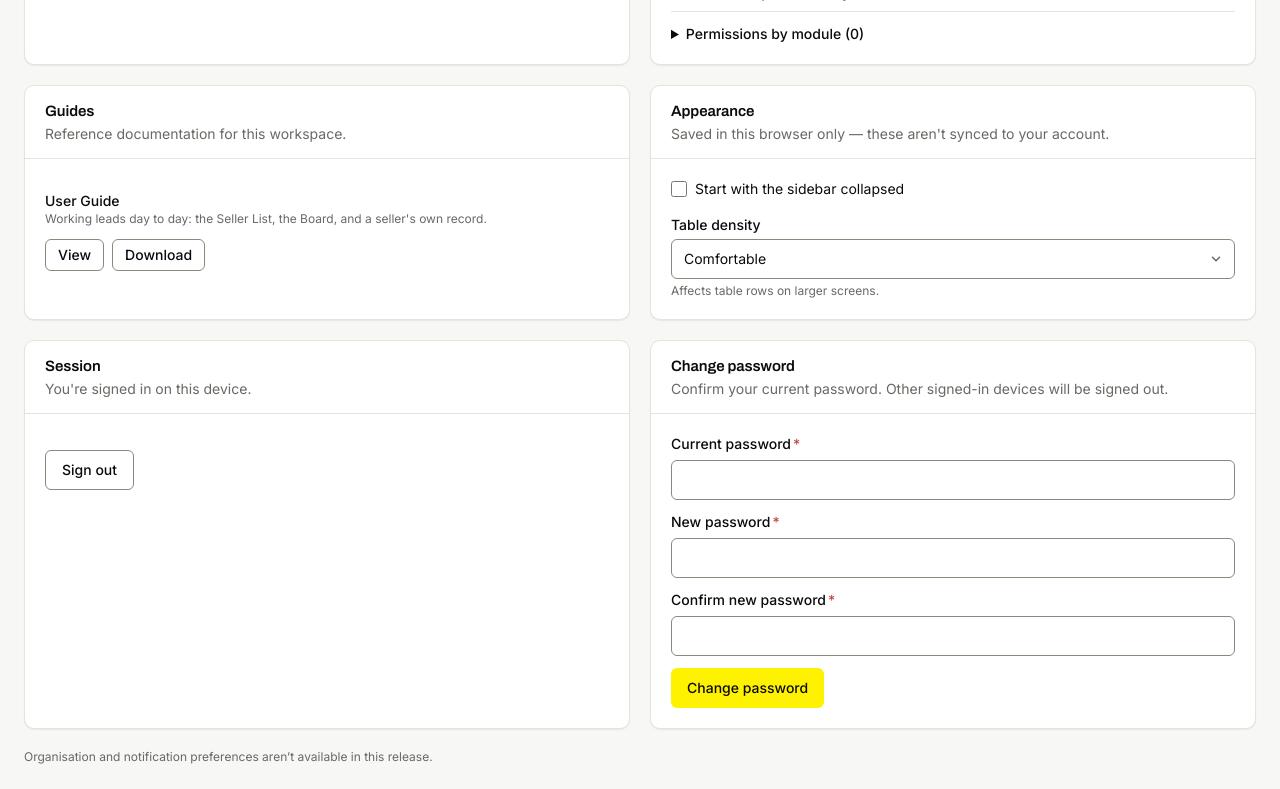
Test case: settings › does not submit mismatched password confirmation
(page scrolled)
Type "Changed-password-123!" into the password field labelled "New password*".
click(953, 558); type("Changed-password-123!")  # box top-left (671, 538), bottom-right (1235, 578)
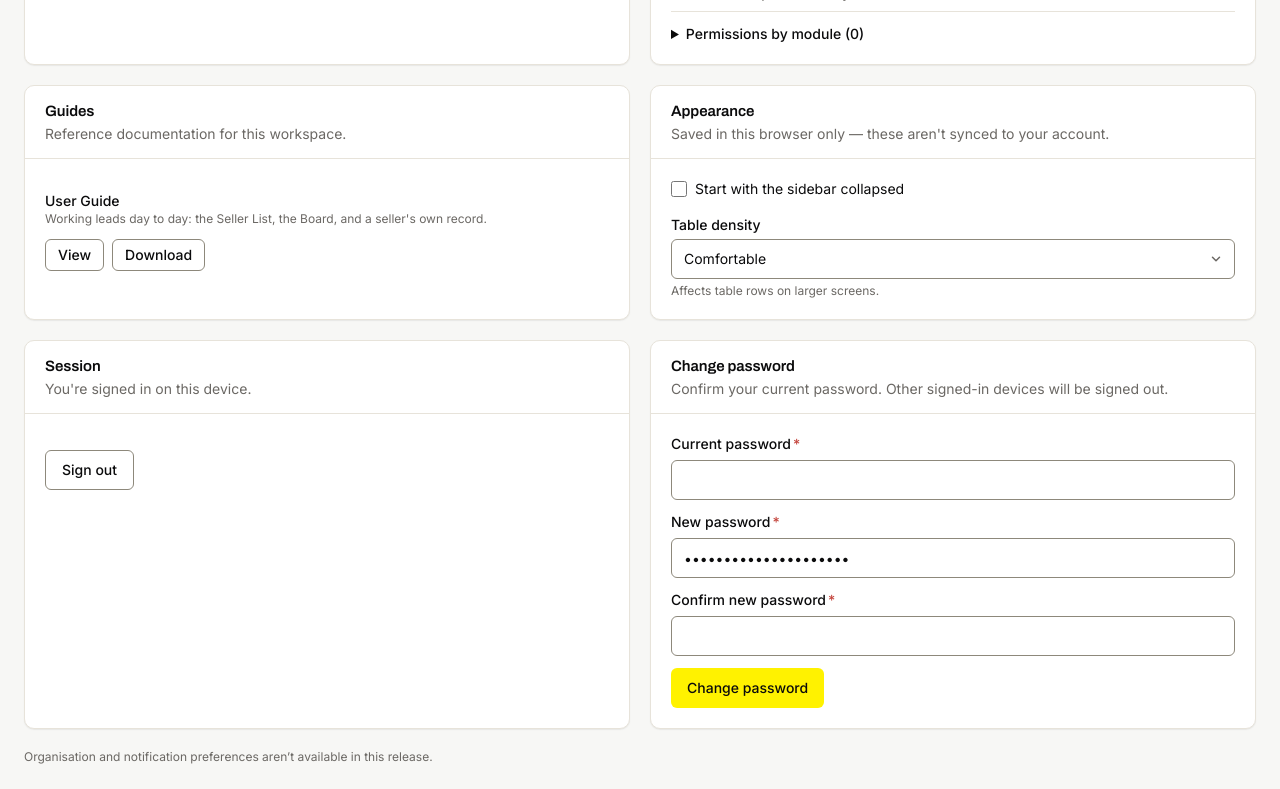
Type "Different-password-123!" into the password field labelled "Confirm new password*".
click(953, 636); type("Different-password-123!")  # box top-left (671, 616), bottom-right (1235, 656)
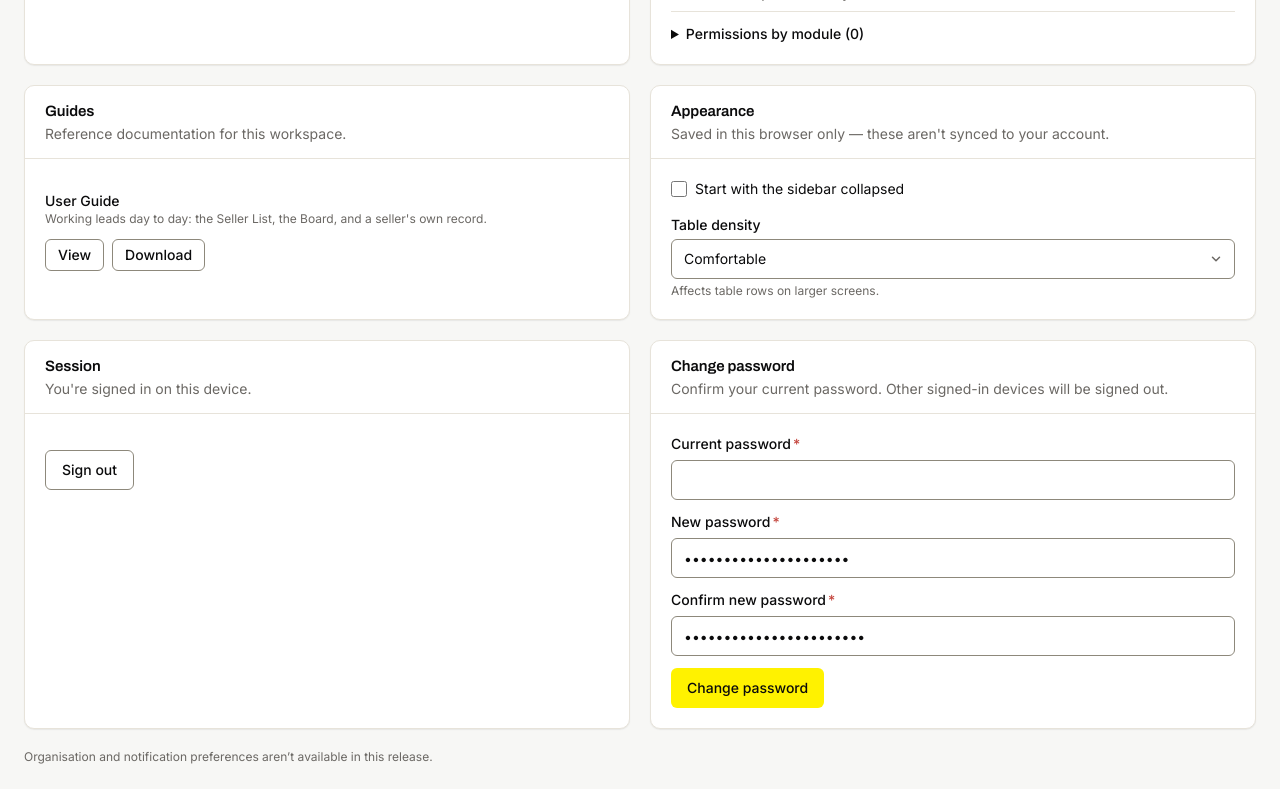
Click the button "Change password".
click(748, 688)  # box top-left (671, 668), bottom-right (824, 708)
(page scrolled)
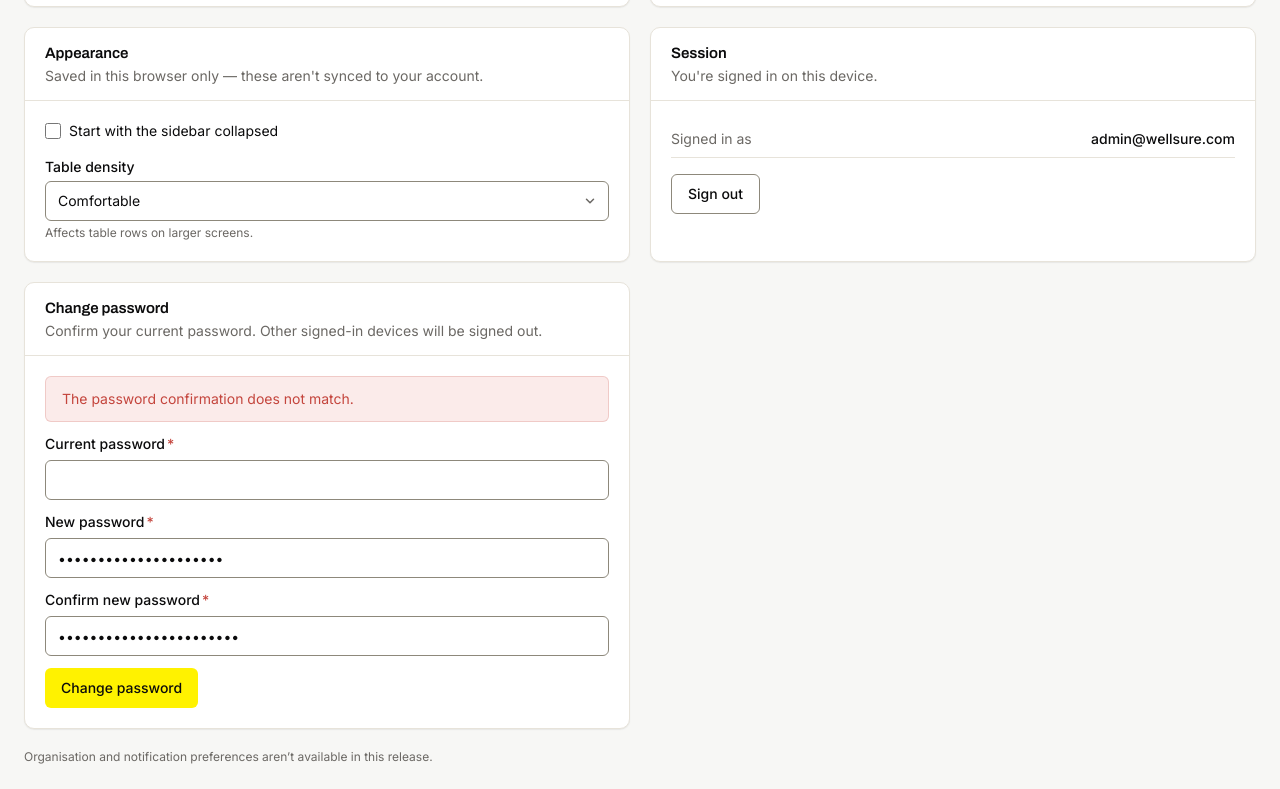
expect the text "The password confirmation does not match." is shown: met, box top-left (45, 376), bottom-right (609, 422)
